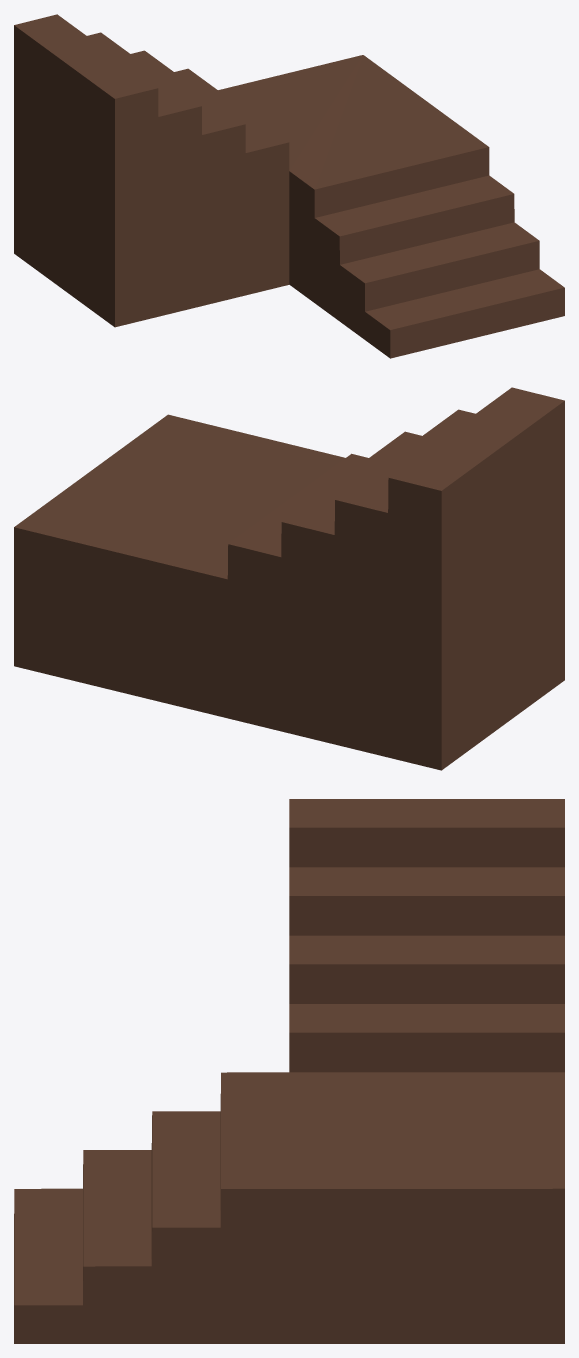
Rendered from Stairs 02.FBX.
3 views of the same model, one above another, from view 1: azimuth 30°, elevation 25°; view 2: azimuth 150°, elevation 25°; view 3: azimuth 270°, elevation 25° (orthographic). The views are drawn at different scales.
Visible parts, largest first — view 1: Stairs 02; view 2: Stairs 02; view 3: Stairs 02.
Boxes of the visible parts, x1=… form: Stairs 02: x1=14, y1=14, x2=564, y2=358; Stairs 02: x1=14, y1=387, x2=564, y2=770; Stairs 02: x1=14, y1=799, x2=564, y2=1343.
Size of the model in its own units: 400 by 250 by 400.
